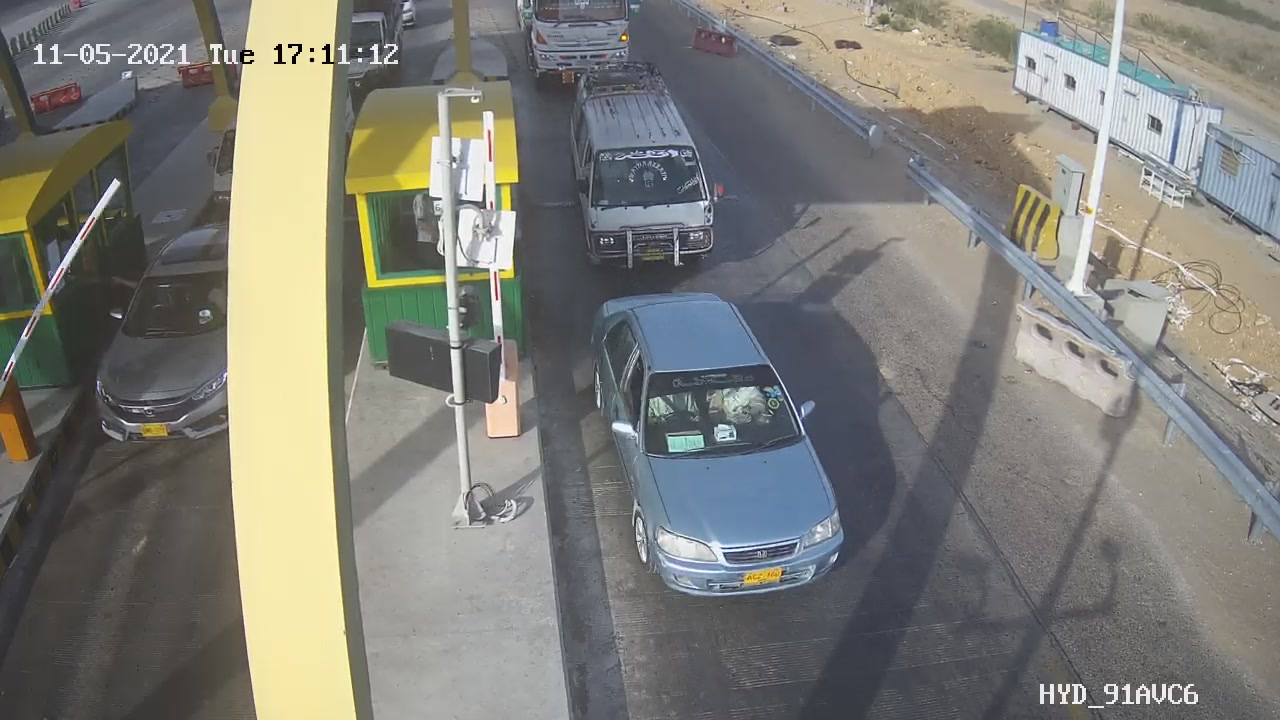F1: (582, 283, 851, 603)
F2: (550, 52, 747, 292)
